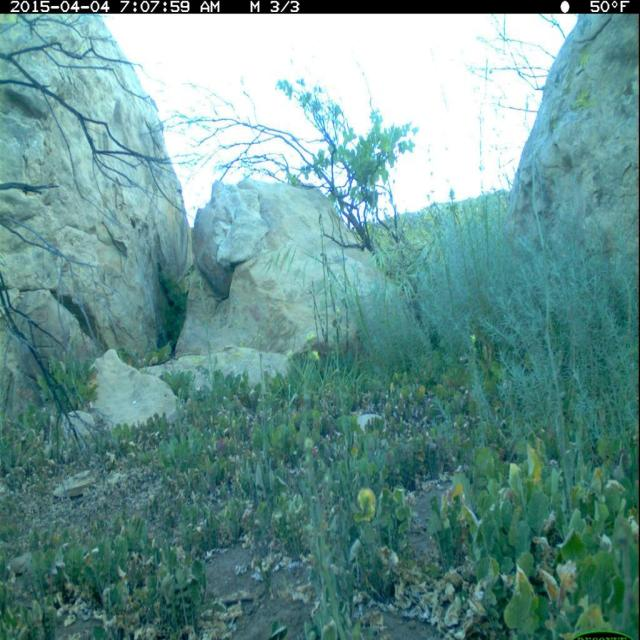coyote: (302, 326, 369, 366)
